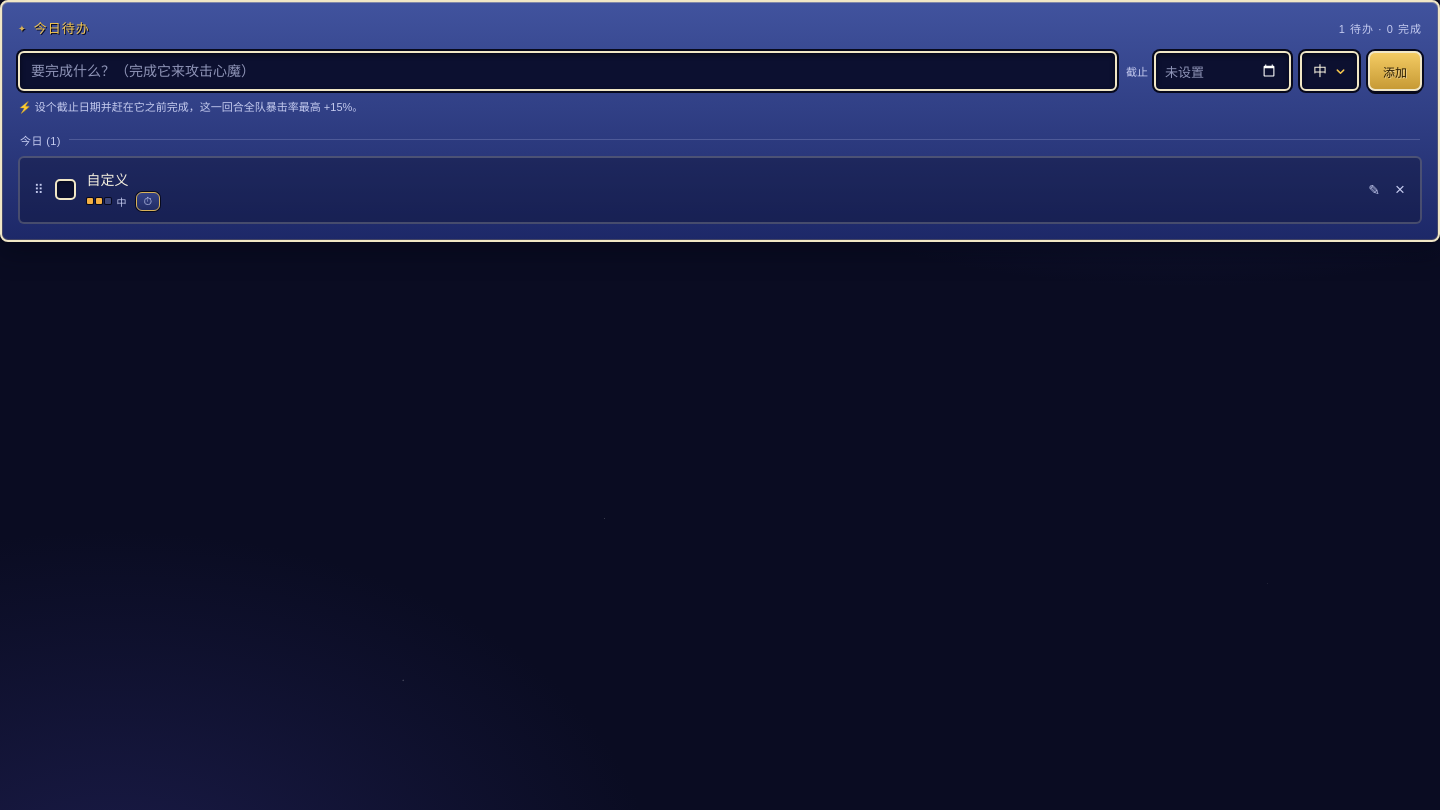
Scenario: TodoPanel — countdown timer › arms a custom duration from the dropdown
Click the button named "设定限时" at [148, 201], box left=136, top=192, right=160, bottom=210
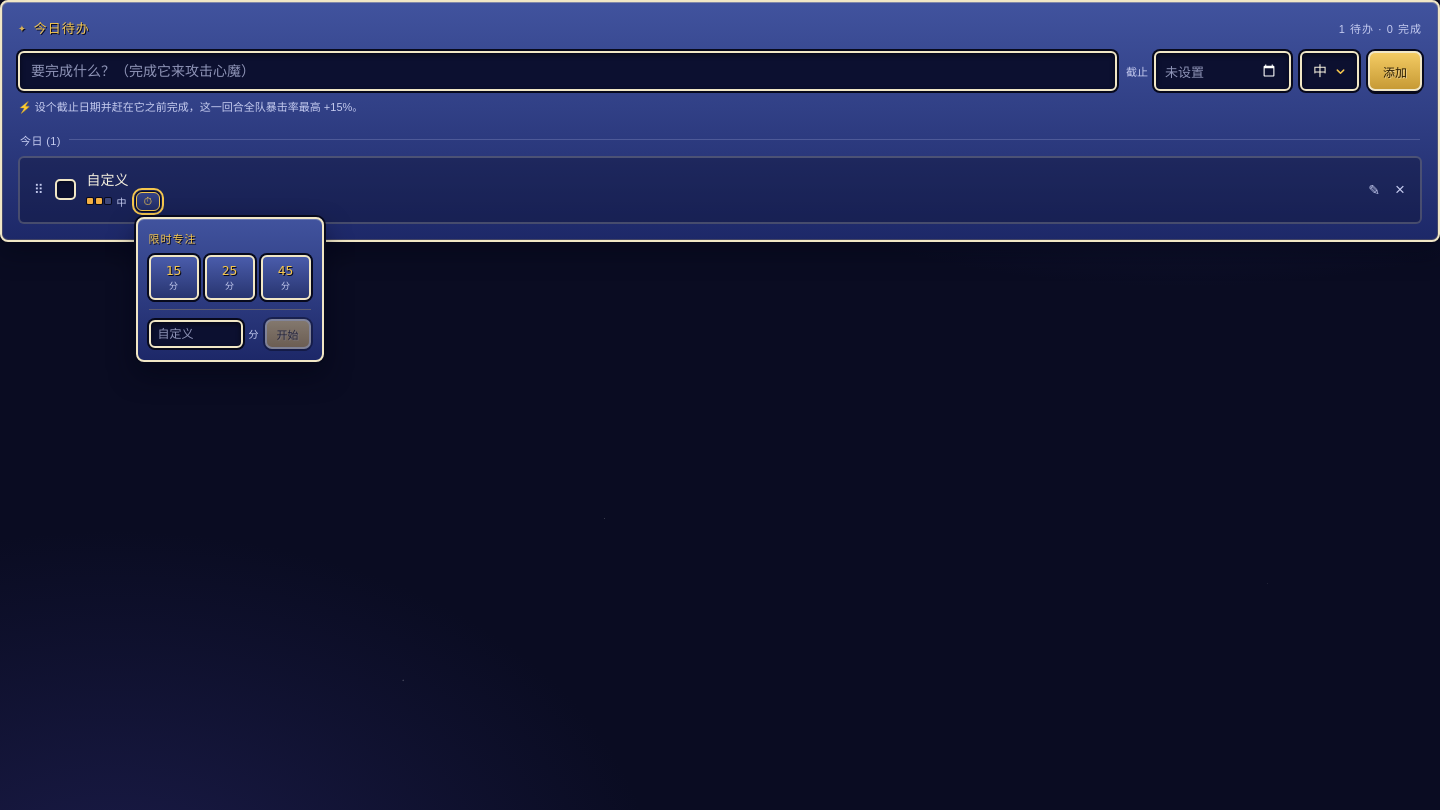
Type "30" into the number field named "自定义分钟" at [196, 334], box left=148, top=320, right=242, bottom=348
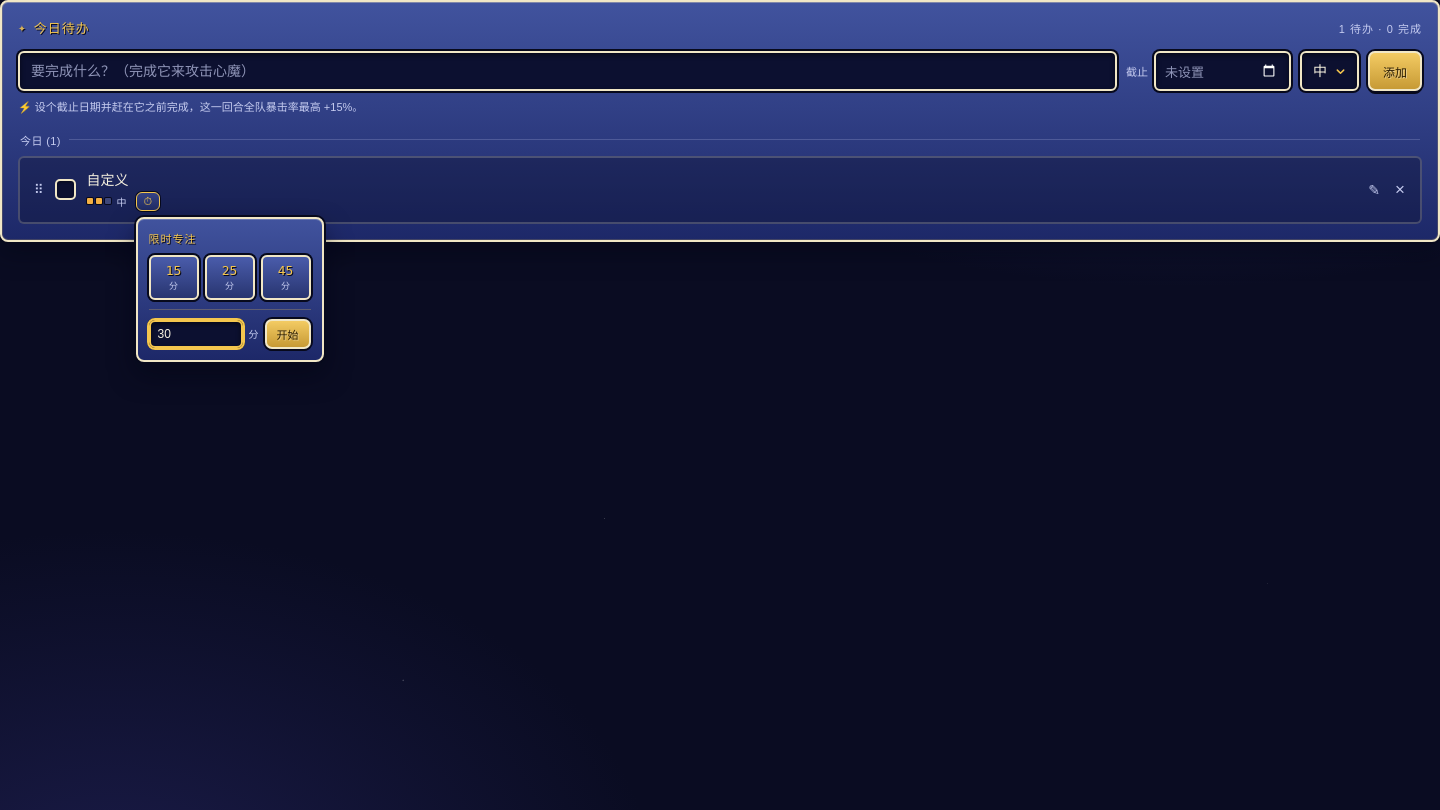
Click the button with aria-label "开始自定义倒计时" at [288, 334], box left=264, top=318, right=310, bottom=348
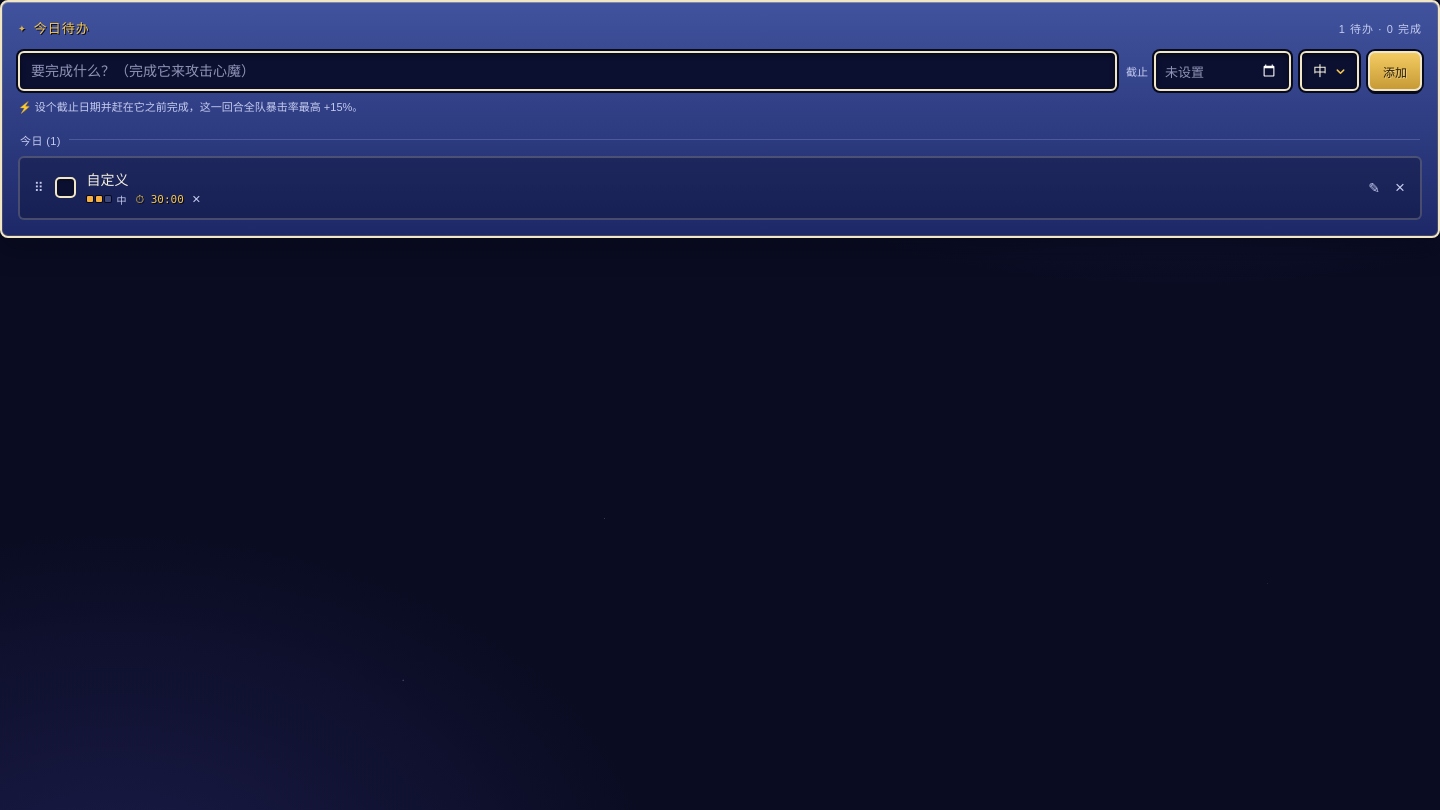
Expected: the button named "取消倒计时" is shown, left=189, top=194, right=204, bottom=204
